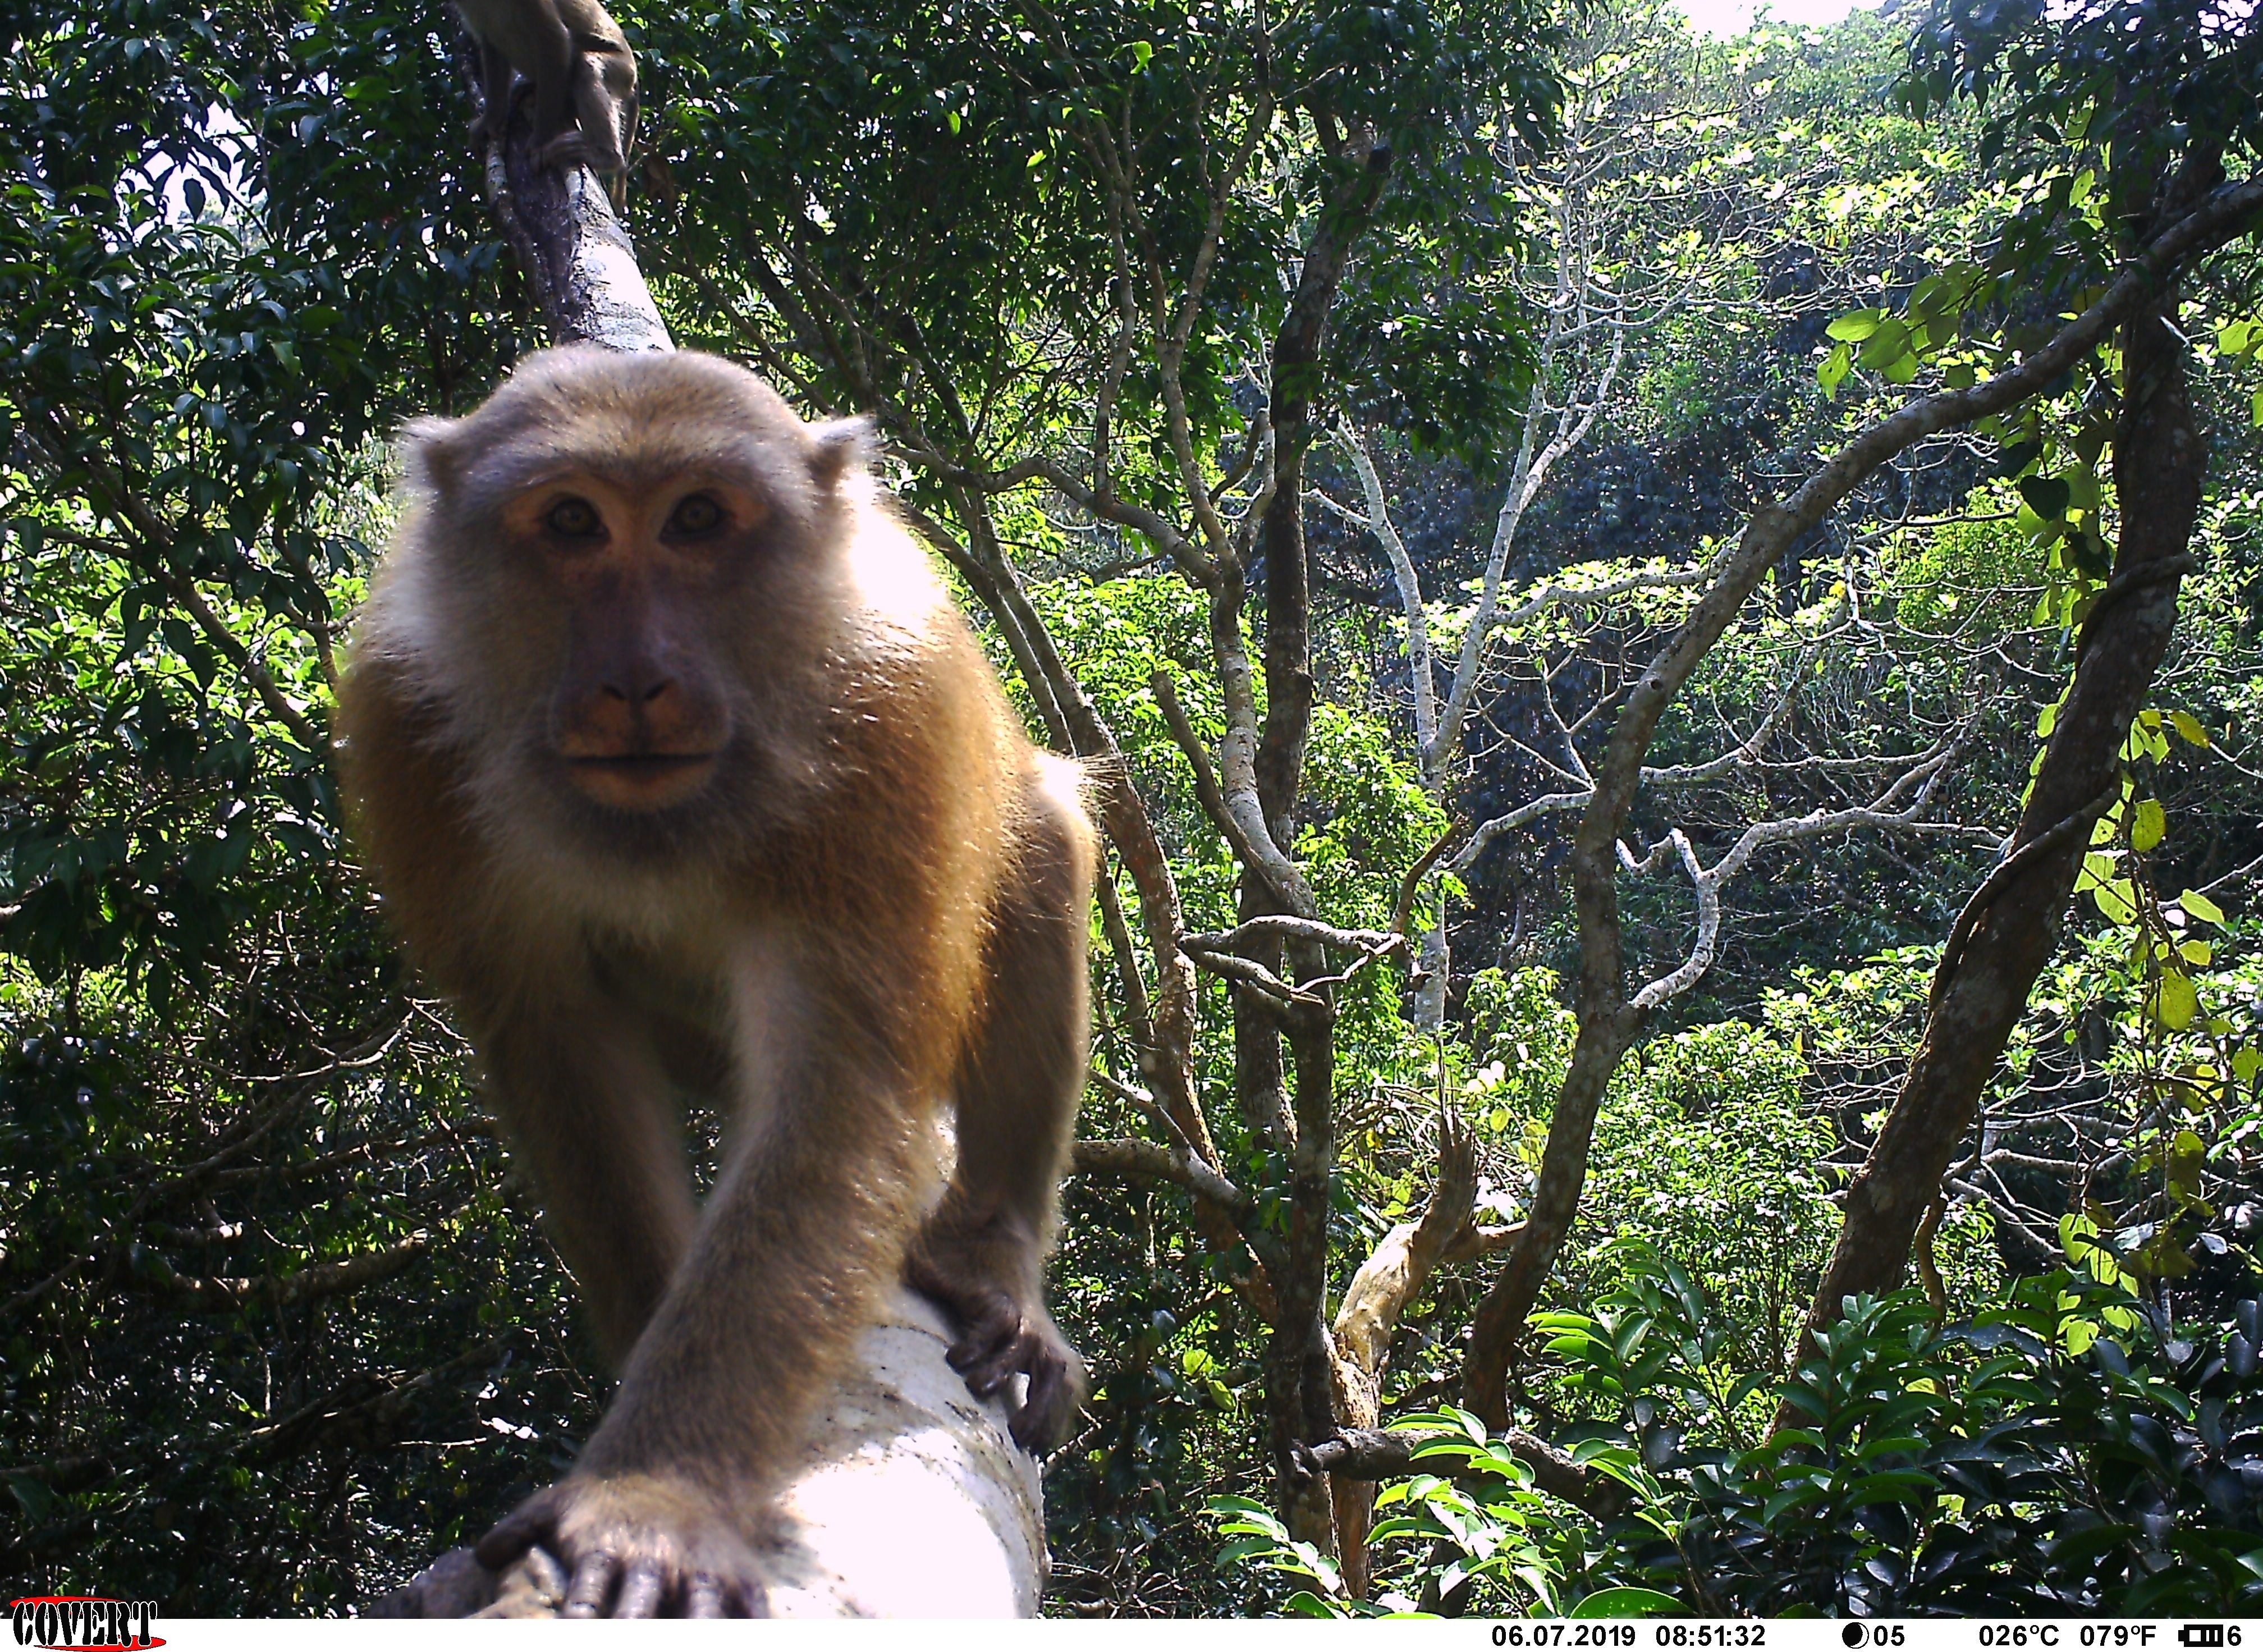monkey: (302, 288, 1225, 1652)
